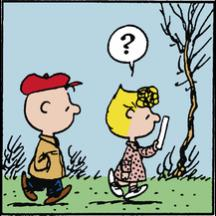charlie: (19, 71, 85, 207)
